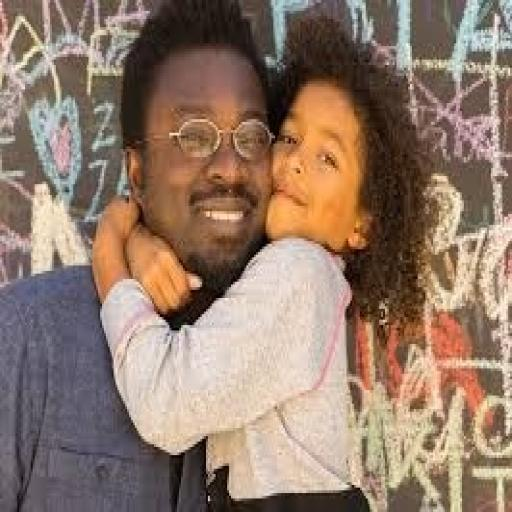hugging: (0, 3, 429, 509)
